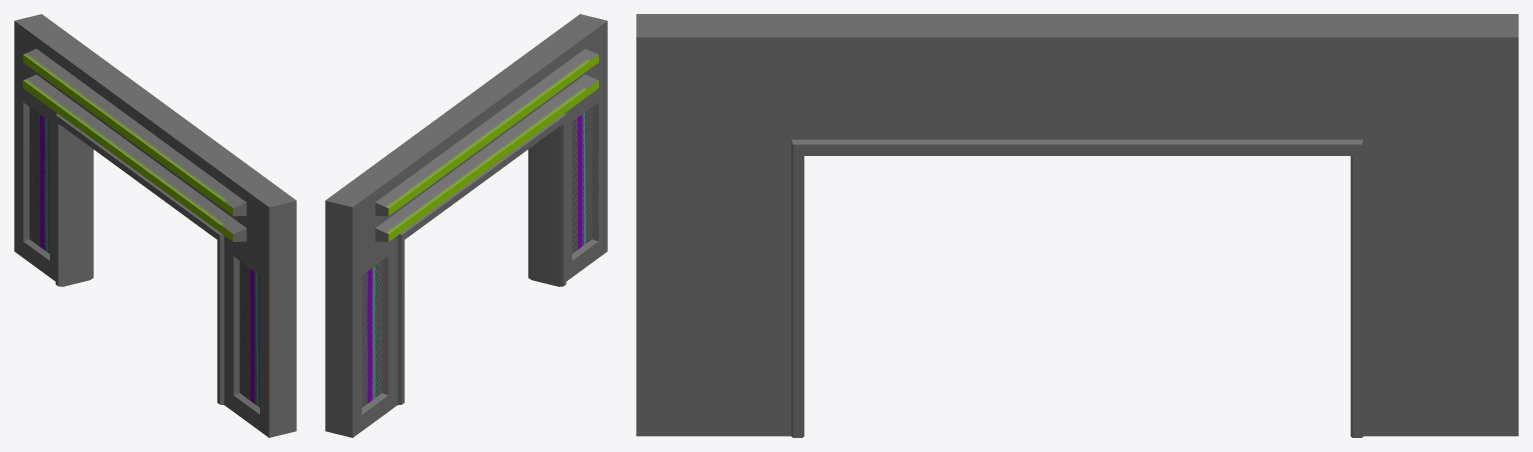
Rendered from SM_B3_Wall1_SM_B3_Wall1.fbx.
3 views of the same model, side by side, from view 1: azimuth 30°, elevation 25°; view 2: azimuth 150°, elevation 25°; view 3: azimuth 270°, elevation 25° (orthographic). The views are drawn at different scales.
Visible parts, largest first — view 1: SM_B3_Wall1_SM_B3_Wall1; view 2: SM_B3_Wall1_SM_B3_Wall1; view 3: SM_B3_Wall1_SM_B3_Wall1.
Part boxes in pixels (bbox=[...]): SM_B3_Wall1_SM_B3_Wall1: bbox=[14, 14, 296, 437]; SM_B3_Wall1_SM_B3_Wall1: bbox=[325, 14, 607, 437]; SM_B3_Wall1_SM_B3_Wall1: bbox=[636, 14, 1518, 437].
Size of the model in its own units: 82.63 by 812 by 405.
Materials: 1 (1 with a texture image).
